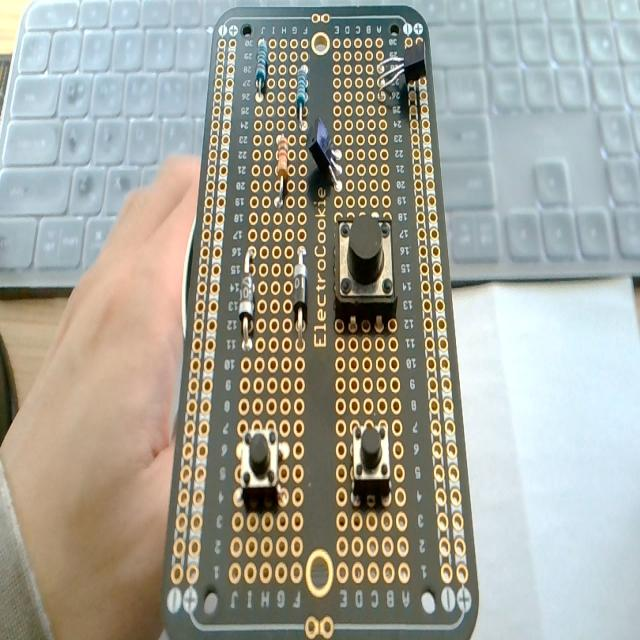diode: (290, 241, 308, 350), (241, 242, 257, 350)
resistor: (276, 127, 294, 205), (252, 30, 271, 102), (292, 49, 308, 132)
switch: (332, 212, 403, 326), (345, 406, 395, 495), (239, 417, 280, 510)
transistor: (372, 36, 426, 100), (310, 114, 346, 190)
